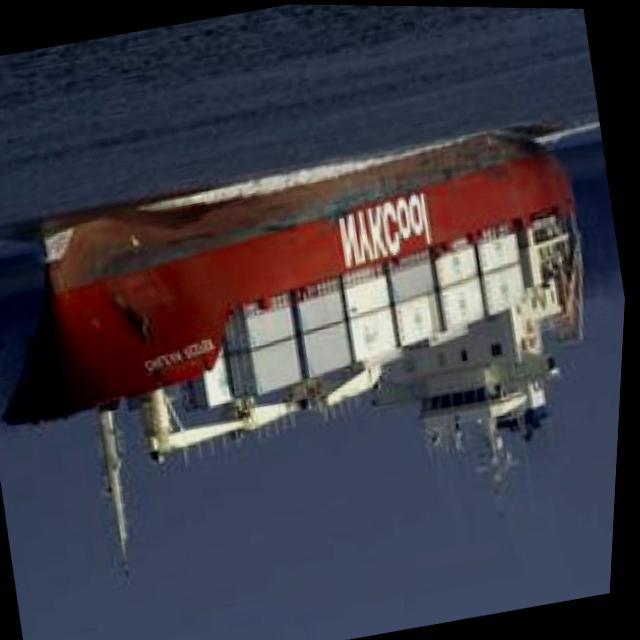ship2: (6, 129, 588, 570)
